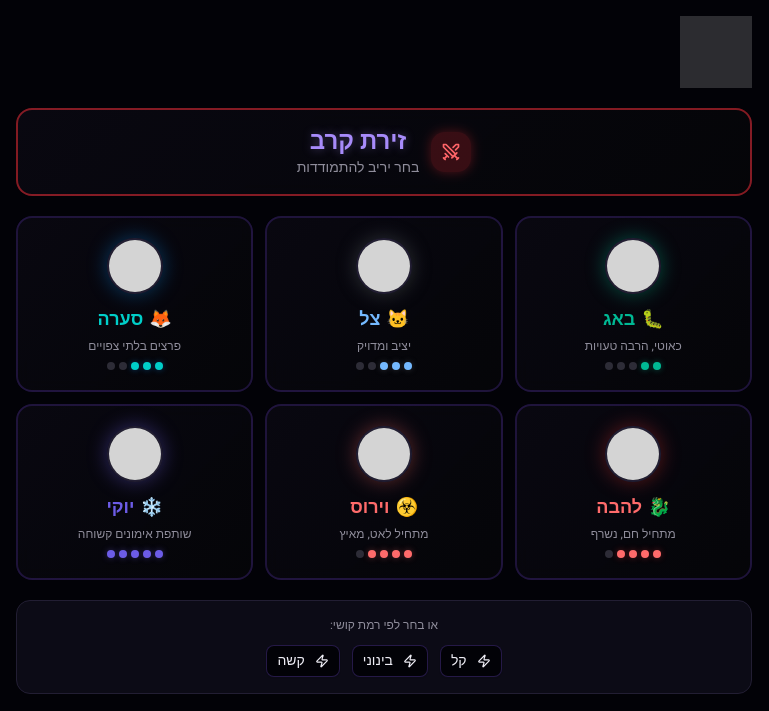
it: BattleArena › shows countdown after selecting a rival
This screenshot has width=769, height=711.
Click the button with test id "rival-shadow".
click(384, 304)  # box [265,216,503,392]
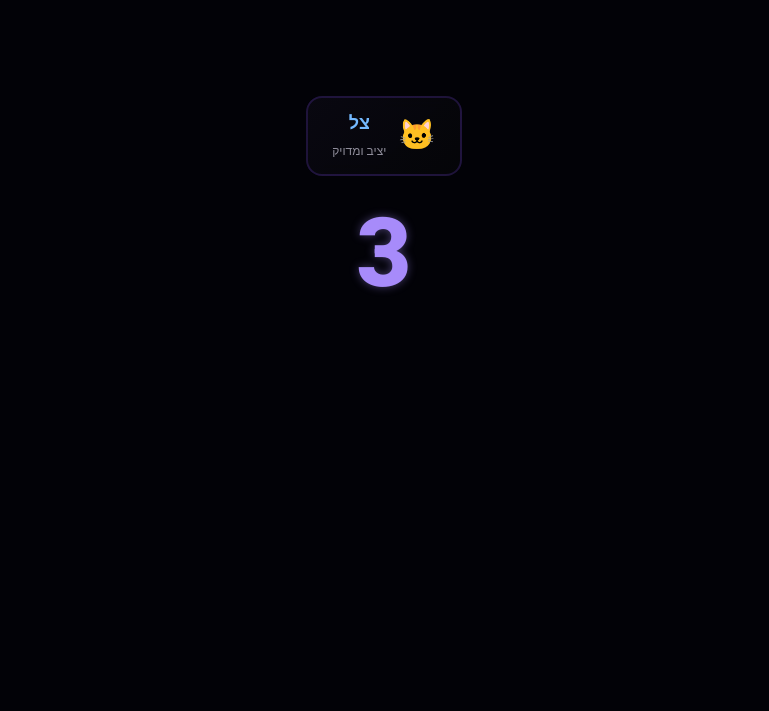
Check: the text "3" is shown, box [356,185,412,326]
